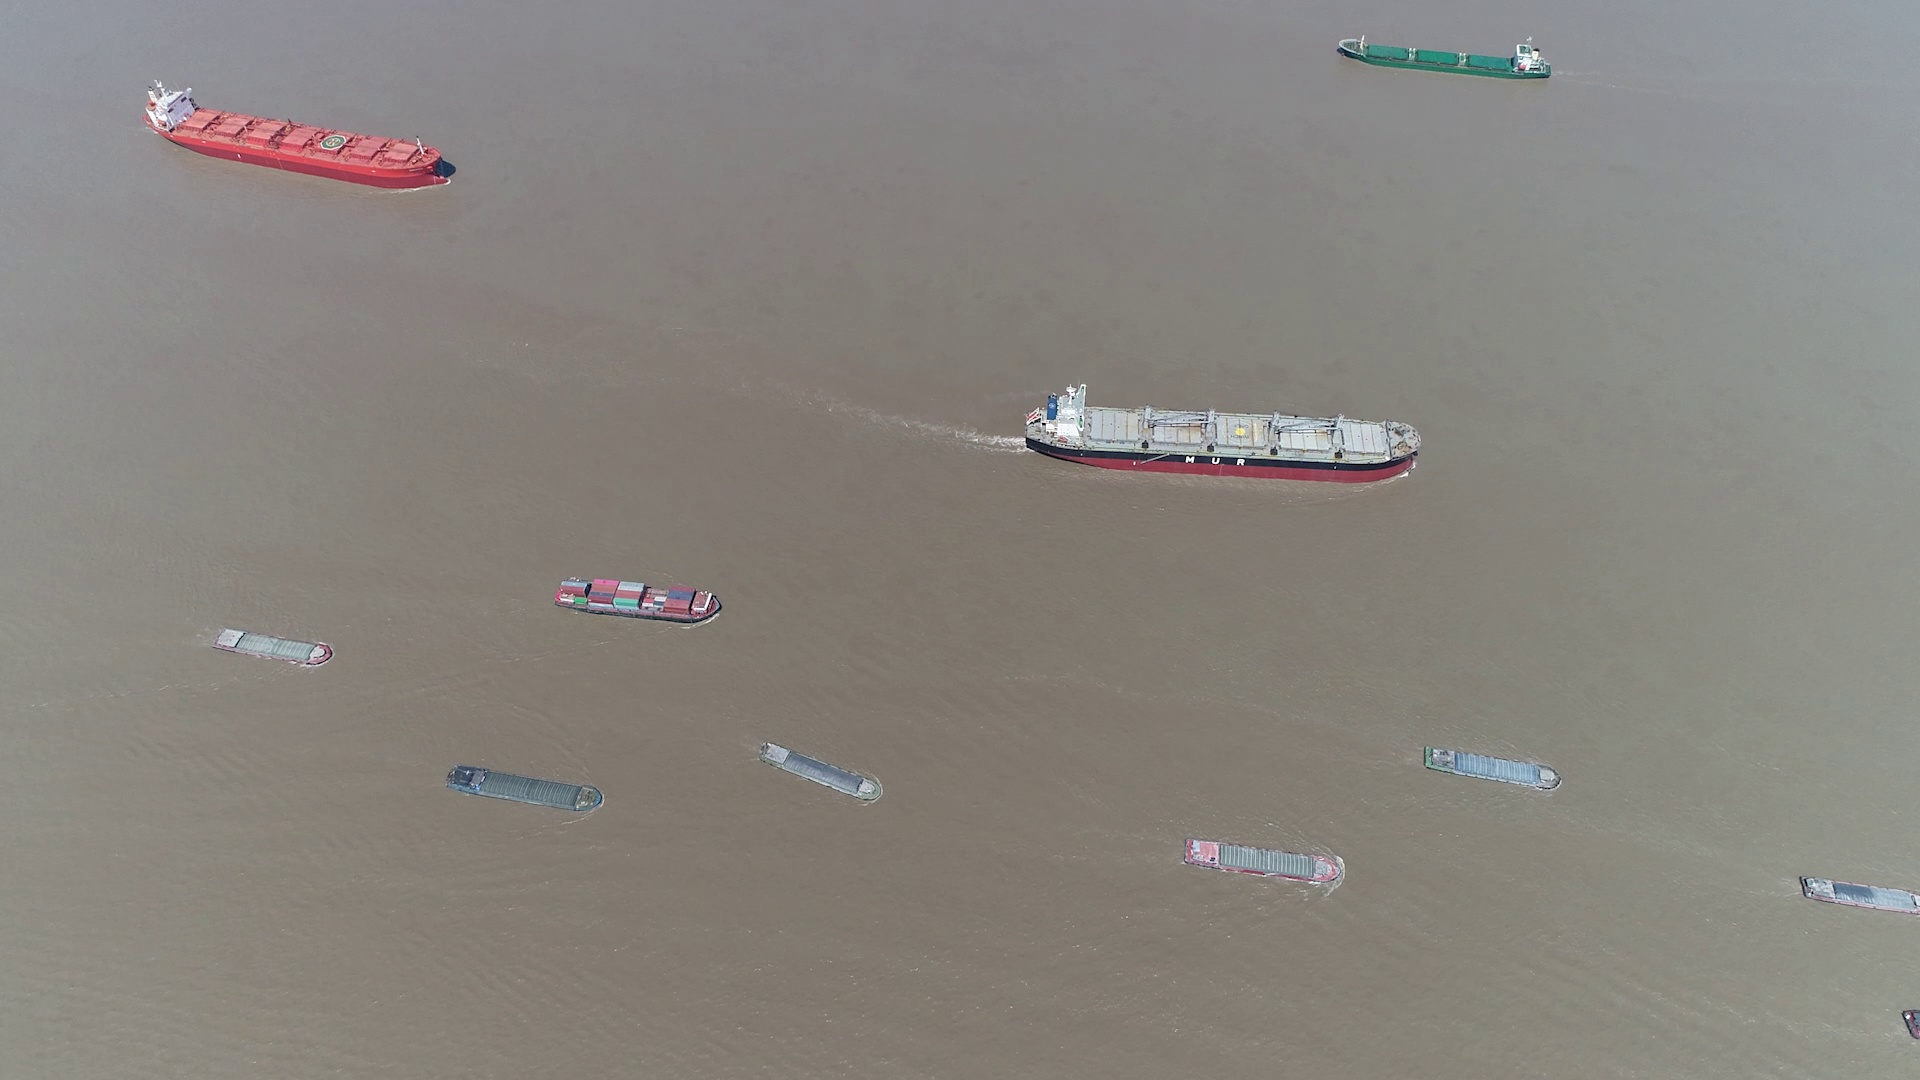ship: (1025, 384, 1423, 484), (146, 75, 450, 185), (1335, 36, 1551, 80), (446, 764, 607, 814), (555, 578, 723, 624), (1182, 839, 1345, 884), (762, 744, 884, 803), (1427, 748, 1563, 790), (1797, 877, 1919, 916), (214, 626, 335, 665)
